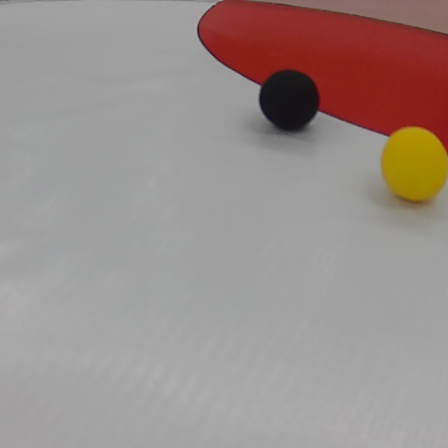black: (254, 67, 321, 131)
red_base: (197, 2, 446, 142)
yellow: (380, 126, 448, 203)
